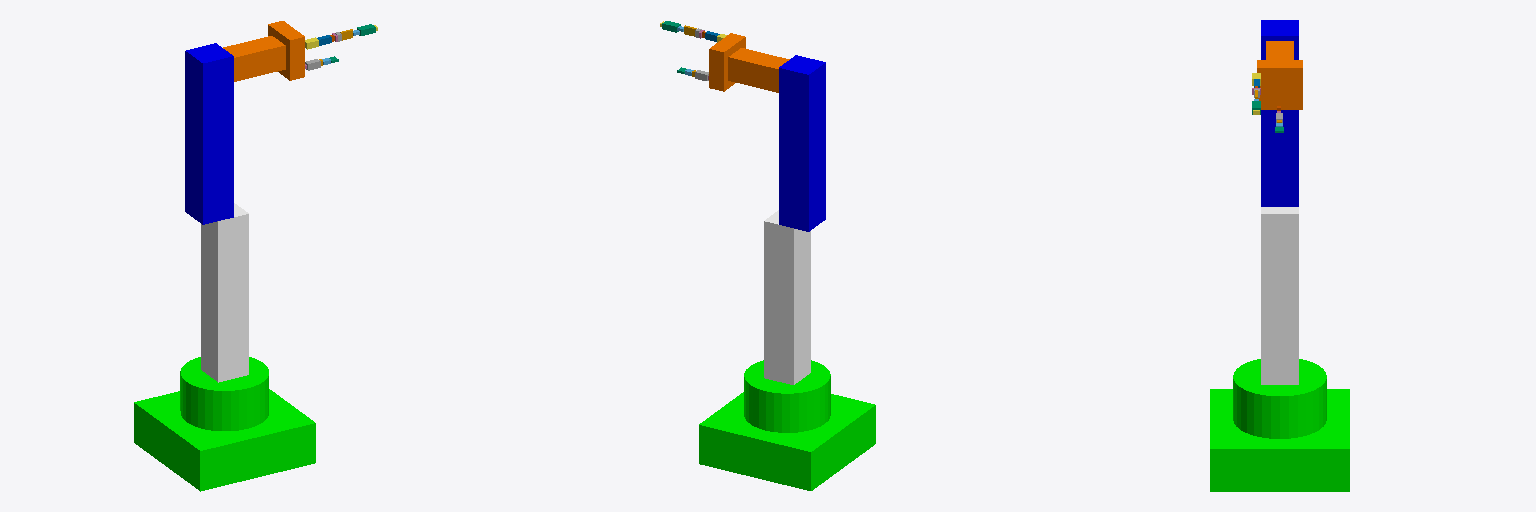
The robot description file, URDF, robot "robot":
<?xml version='1.0' encoding='utf-8'?>
<robot name="robot">
  <link name="base_link">
    <visual>
      <origin xyz="0 0 0.125" rpy="0 0 0" />
      <geometry>
        <box size="0.75 0.75 0.25" />
      </geometry>
      <material name="green" />
    </visual>
    <visual>
      <origin xyz="0 0 0.375" rpy="0 0 0" />
      <geometry>
        <cylinder length="0.25" radius="0.25" />
      </geometry>
      <material name="green">
        <color rgba="0 1 0 1" />
      </material>
    </visual>
    <collision>
      <geometry>
        <box size="0.75 0.75 0.5" />
      </geometry>
    </collision>
    <inertial>
      <mass value="0.5" />
      <inertia ixx="0.034" ixy="0.0" ixz="0.0" iyy="0.034" iyz="0.0" izz="0.034" />
    </inertial>
  </link>
  <link name="support_link">
    <visual>
      <origin xyz="0 0 0.5" rpy="0 0 0" />
      <geometry>
        <box size="0.2 0.2 1" />
      </geometry>
      <material name="white">
        <color rgba="1 1 1 1" />
      </material>
    </visual>
    <collision>
      <geometry>
        <box size="0.2 0.2 1" />
      </geometry>
    </collision>
    <inertial>
      <mass value="0.1" />
      <inertia ixx="0.01" ixy="0.0" ixz="0.0" iyy="0.01" iyz="0.0" izz="0.01" />
    </inertial>
  </link>
  <joint name="support_joint" type="continuous">
    <origin xyz="0 0 0.5" rpy="0 0 0" />
    <parent link="base_link" />
    <child link="support_link" />
    <axis xyz="0 0 1" />
  </joint>
  <link name="arm_link">
    <visual>
      <origin xyz="0 0 0.5" rpy="0 0 0" />
      <geometry>
        <box size="0.2 0.2 1" />
      </geometry>
      <material name="blue">
        <color rgba="0 0 1 1" />
      </material>
    </visual>
    <collision>
      <geometry>
        <box size="0.2 0.2 1" />
      </geometry>
    </collision>
    <inertial>
      <mass value="0.1" />
      <inertia ixx="0.01" ixy="0.0" ixz="0.0" iyy="0.01" iyz="0.0" izz="0.01" />
    </inertial>
  </link>
  <joint name="arm_joint" type="revolute">
    <origin xyz="-0.1 0 1" rpy="0 0 0" />
    <parent link="support_link" />
    <child link="arm_link" />
    <axis xyz="0 1 0" />
    <limit lower="-3.14" upper="3.14" effort="1.0" velocity="1.0" />
  </joint>
  <link name="wrist_link">
    <visual>
      <origin xyz="0 0 0.25" rpy="0 0 0" />
      <geometry>
        <box size="0.15 0.15 0.5" />
      </geometry>
      <material name="orange">
        <color rgba="1 0.5 0 1" />
      </material>
    </visual>
    <collision>
      <geometry>
        <box size="0.15 0.15 0.5" />
      </geometry>
    </collision>
    <inertial>
      <mass value="0.1" />
      <inertia ixx="0.01" ixy="0.0" ixz="0.0" iyy="0.01" iyz="0.0" izz="0.01" />
    </inertial>
  </link>
  <joint name="wrist_joint" type="fixed">
    <origin xyz="0 0 0.9" rpy="0 1.571 0" />
    <parent link="arm_link" />
    <child link="wrist_link" />
  </joint>
  <link name="palm_link">
    <visual>
      <origin xyz="0 0 0.05" rpy="0 0 0" />
      <geometry>
        <box size="0.25 0.25 0.1" />
      </geometry>
      <material name="orange" />
    </visual>
    <collision>
      <geometry>
        <box size="0.25 0.25 0.1" />
      </geometry>
    </collision>
    <inertial>
      <mass value="0.1" />
      <inertia ixx="0.01" ixy="0.0" ixz="0.0" iyy="0.01" iyz="0.0" izz="0.01" />
    </inertial>
  </link>
  <joint name="palm_joint" type="fixed">
    <origin xyz="0 0 0.45" rpy="0 0 0" />
    <parent link="wrist_link" />
    <child link="palm_link" />
  </joint>
  <link name="finger_link_0_0">
    <visual>
      <origin xyz="0 0 0.013" rpy="0 0 0" />
      <geometry>
        <box size="0.048 0.022 0.026" />
      </geometry>
    </visual>
    <collision>
      <geometry>
        <box size="0.048 0.022 0.026" />
      </geometry>
    </collision>
    <inertial>
      <mass value="0.008" />
      <inertia ixx="0.0" iyy="0.0" izz="0.0" ixy="0" ixz="0" iyz="0" />
    </inertial>
  </link>
  <joint name="finger_joint_palm_link_to_finger_link_0_0" type="revolute">
    <origin xyz="0.125 -0.004 0.1" rpy="0 0 0" />
    <parent link="palm_link" />
    <child link="finger_link_0_0" />
    <axis xyz="0.0 1.0 0.0" />
    <limit lower="-3.142" upper="3.142" effort="10" velocity="10" />
  </joint>
  <link name="finger_link_0_1">
    <visual>
      <origin xyz="0 0 0.0255" rpy="0 0 0" />
      <geometry>
        <box size="0.021 0.02 0.051" />
      </geometry>
    </visual>
    <collision>
      <geometry>
        <box size="0.021 0.02 0.051" />
      </geometry>
    </collision>
    <inertial>
      <mass value="0.006" />
      <inertia ixx="0.0" iyy="0.0" izz="0.0" ixy="0" ixz="0" iyz="0" />
    </inertial>
  </link>
  <joint name="finger_joint_finger_link_0_0_to_finger_link_0_1" type="revolute">
    <origin xyz="0.0 0.0 0.026" rpy="0 0 0" />
    <parent link="finger_link_0_0" />
    <child link="finger_link_0_1" />
    <axis xyz="0.0 1.0 0.0" />
    <limit lower="-3.142" upper="3.142" effort="10" velocity="10" />
  </joint>
  <link name="finger_link_0_2">
    <visual>
      <origin xyz="0 0 0.0405" rpy="0 0 0" />
      <geometry>
        <box size="0.042 0.037 0.081" />
      </geometry>
    </visual>
    <collision>
      <geometry>
        <box size="0.042 0.037 0.081" />
      </geometry>
    </collision>
    <inertial>
      <mass value="0.038" />
      <inertia ixx="0.0" iyy="0.0" izz="0.0" ixy="0" ixz="0" iyz="0" />
    </inertial>
  </link>
  <joint name="finger_joint_finger_link_0_1_to_finger_link_0_2" type="revolute">
    <origin xyz="0.0 0.0 0.051" rpy="0 0 0" />
    <parent link="finger_link_0_1" />
    <child link="finger_link_0_2" />
    <axis xyz="0.0 1.0 0.0" />
    <limit lower="-3.142" upper="3.142" effort="10" velocity="10" />
  </joint>
  <link name="finger_link_0_3">
    <visual>
      <origin xyz="0 0 0.0105" rpy="0 0 0" />
      <geometry>
        <box size="0.033 0.024 0.021" />
      </geometry>
    </visual>
    <collision>
      <geometry>
        <box size="0.033 0.024 0.021" />
      </geometry>
    </collision>
    <inertial>
      <mass value="0.005" />
      <inertia ixx="0.0" iyy="0.0" izz="0.0" ixy="0" ixz="0" iyz="0" />
    </inertial>
  </link>
  <joint name="finger_joint_finger_link_0_2_to_finger_link_0_3" type="revolute">
    <origin xyz="0.0 0.0 0.081" rpy="0 0 0" />
    <parent link="finger_link_0_2" />
    <child link="finger_link_0_3" />
    <axis xyz="0.0 1.0 0.0" />
    <limit lower="-3.142" upper="3.142" effort="10" velocity="10" />
  </joint>
  <link name="finger_link_0_4">
    <visual>
      <origin xyz="0 0 0.024" rpy="0 0 0" />
      <geometry>
        <box size="0.023 0.036 0.048" />
      </geometry>
    </visual>
    <collision>
      <geometry>
        <box size="0.023 0.036 0.048" />
      </geometry>
    </collision>
    <inertial>
      <mass value="0.012" />
      <inertia ixx="0.0" iyy="0.0" izz="0.0" ixy="0" ixz="0" iyz="0" />
    </inertial>
  </link>
  <joint name="finger_joint_finger_link_0_3_to_finger_link_0_4" type="revolute">
    <origin xyz="0.0 0.0 0.021" rpy="0 0 0" />
    <parent link="finger_link_0_3" />
    <child link="finger_link_0_4" />
    <axis xyz="0.0 1.0 0.0" />
    <limit lower="-3.142" upper="3.142" effort="10" velocity="10" />
  </joint>
  <link name="finger_link_0_5">
    <visual>
      <origin xyz="0 0 0.0225" rpy="0 0 0" />
      <geometry>
        <box size="0.014 0.046 0.045" />
      </geometry>
    </visual>
    <collision>
      <geometry>
        <box size="0.014 0.046 0.045" />
      </geometry>
    </collision>
    <inertial>
      <mass value="0.009" />
      <inertia ixx="0.0" iyy="0.0" izz="0.0" ixy="0" ixz="0" iyz="0" />
    </inertial>
  </link>
  <joint name="finger_joint_finger_link_0_4_to_finger_link_0_5" type="revolute">
    <origin xyz="0.0 0.0 0.048" rpy="0 0 0" />
    <parent link="finger_link_0_4" />
    <child link="finger_link_0_5" />
    <axis xyz="0.0 1.0 0.0" />
    <limit lower="-3.142" upper="3.142" effort="10" velocity="10" />
  </joint>
  <link name="finger_link_1_0">
    <visual>
      <origin xyz="0 0 0.039" rpy="0 0 0" />
      <geometry>
        <box size="0.04 0.045 0.078" />
      </geometry>
    </visual>
    <collision>
      <geometry>
        <box size="0.04 0.045 0.078" />
      </geometry>
    </collision>
    <inertial>
      <mass value="0.042" />
      <inertia ixx="0.0" iyy="0.0" izz="0.0" ixy="0" ixz="0" iyz="0" />
    </inertial>
  </link>
  <joint name="finger_joint_palm_link_to_finger_link_1_0" type="revolute">
    <origin xyz="-0.074 -0.125 0.1" rpy="0 0 0" />
    <parent link="palm_link" />
    <child link="finger_link_1_0" />
    <axis xyz="1.0 0.0 0.0" />
    <limit lower="-3.142" upper="3.142" effort="10" velocity="10" />
  </joint>
  <link name="finger_link_1_1">
    <visual>
      <origin xyz="0 0 0.0415" rpy="0 0 0" />
      <geometry>
        <box size="0.039 0.032 0.083" />
      </geometry>
    </visual>
    <collision>
      <geometry>
        <box size="0.039 0.032 0.083" />
      </geometry>
    </collision>
    <inertial>
      <mass value="0.031" />
      <inertia ixx="0.0" iyy="0.0" izz="0.0" ixy="0" ixz="0" iyz="0" />
    </inertial>
  </link>
  <joint name="finger_joint_finger_link_1_0_to_finger_link_1_1" type="revolute">
    <origin xyz="0.0 0.0 0.078" rpy="0 0 0" />
    <parent link="finger_link_1_0" />
    <child link="finger_link_1_1" />
    <axis xyz="1.0 0.0 0.0" />
    <limit lower="-3.142" upper="3.142" effort="10" velocity="10" />
  </joint>
  <link name="finger_link_1_2">
    <visual>
      <origin xyz="0 0 0.012" rpy="0 0 0" />
      <geometry>
        <box size="0.034 0.016 0.024" />
      </geometry>
    </visual>
    <collision>
      <geometry>
        <box size="0.034 0.016 0.024" />
      </geometry>
    </collision>
    <inertial>
      <mass value="0.004" />
      <inertia ixx="0.0" iyy="0.0" izz="0.0" ixy="0" ixz="0" iyz="0" />
    </inertial>
  </link>
  <joint name="finger_joint_finger_link_1_1_to_finger_link_1_2" type="revolute">
    <origin xyz="0.0 0.0 0.083" rpy="0 0 0" />
    <parent link="finger_link_1_1" />
    <child link="finger_link_1_2" />
    <axis xyz="0.0 1.0 0.0" />
    <limit lower="-3.142" upper="3.142" effort="10" velocity="10" />
  </joint>
  <link name="finger_link_1_3">
    <visual>
      <origin xyz="0 0 0.0075" rpy="0 0 0" />
      <geometry>
        <box size="0.036 0.049 0.015" />
      </geometry>
    </visual>
    <collision>
      <geometry>
        <box size="0.036 0.049 0.015" />
      </geometry>
    </collision>
    <inertial>
      <mass value="0.008" />
      <inertia ixx="0.0" iyy="0.0" izz="0.0" ixy="0" ixz="0" iyz="0" />
    </inertial>
  </link>
  <joint name="finger_joint_finger_link_1_2_to_finger_link_1_3" type="revolute">
    <origin xyz="0.0 0.0 0.024" rpy="0 0 0" />
    <parent link="finger_link_1_2" />
    <child link="finger_link_1_3" />
    <axis xyz="1.0 0.0 0.0" />
    <limit lower="-3.142" upper="3.142" effort="10" velocity="10" />
  </joint>
  <link name="finger_link_1_4">
    <visual>
      <origin xyz="0 0 0.014" rpy="0 0 0" />
      <geometry>
        <box size="0.044 0.032 0.028" />
      </geometry>
    </visual>
    <collision>
      <geometry>
        <box size="0.044 0.032 0.028" />
      </geometry>
    </collision>
    <inertial>
      <mass value="0.012" />
      <inertia ixx="0.0" iyy="0.0" izz="0.0" ixy="0" ixz="0" iyz="0" />
    </inertial>
  </link>
  <joint name="finger_joint_finger_link_1_3_to_finger_link_1_4" type="revolute">
    <origin xyz="0.0 0.0 0.015" rpy="0 0 0" />
    <parent link="finger_link_1_3" />
    <child link="finger_link_1_4" />
    <axis xyz="0.0 1.0 0.0" />
    <limit lower="-3.142" upper="3.142" effort="10" velocity="10" />
  </joint>
  <link name="finger_link_1_5">
    <visual>
      <origin xyz="0 0 0.039" rpy="0 0 0" />
      <geometry>
        <box size="0.049 0.016 0.078" />
      </geometry>
    </visual>
    <collision>
      <geometry>
        <box size="0.049 0.016 0.078" />
      </geometry>
    </collision>
    <inertial>
      <mass value="0.018" />
      <inertia ixx="0.0" iyy="0.0" izz="0.0" ixy="0" ixz="0" iyz="0" />
    </inertial>
  </link>
  <joint name="finger_joint_finger_link_1_4_to_finger_link_1_5" type="revolute">
    <origin xyz="0.0 0.0 0.028" rpy="0 0 0" />
    <parent link="finger_link_1_4" />
    <child link="finger_link_1_5" />
    <axis xyz="1.0 0.0 0.0" />
    <limit lower="-3.142" upper="3.142" effort="10" velocity="10" />
  </joint>
  <link name="finger_link_1_6">
    <visual>
      <origin xyz="0 0 0.02" rpy="0 0 0" />
      <geometry>
        <box size="0.018 0.03 0.04" />
      </geometry>
    </visual>
    <collision>
      <geometry>
        <box size="0.018 0.03 0.04" />
      </geometry>
    </collision>
    <inertial>
      <mass value="0.006" />
      <inertia ixx="0.0" iyy="0.0" izz="0.0" ixy="0" ixz="0" iyz="0" />
    </inertial>
  </link>
  <joint name="finger_joint_finger_link_1_5_to_finger_link_1_6" type="revolute">
    <origin xyz="0.0 0.0 0.078" rpy="0 0 0" />
    <parent link="finger_link_1_5" />
    <child link="finger_link_1_6" />
    <axis xyz="0.0 1.0 0.0" />
    <limit lower="-3.142" upper="3.142" effort="10" velocity="10" />
  </joint>
  <link name="finger_link_1_7">
    <visual>
      <origin xyz="0 0 0.0475" rpy="0 0 0" />
      <geometry>
        <box size="0.037 0.048 0.095" />
      </geometry>
    </visual>
    <collision>
      <geometry>
        <box size="0.037 0.048 0.095" />
      </geometry>
    </collision>
    <inertial>
      <mass value="0.051" />
      <inertia ixx="0.0" iyy="0.0" izz="0.0" ixy="0" ixz="0" iyz="0" />
    </inertial>
  </link>
  <joint name="finger_joint_finger_link_1_6_to_finger_link_1_7" type="revolute">
    <origin xyz="0.0 0.0 0.04" rpy="0 0 0" />
    <parent link="finger_link_1_6" />
    <child link="finger_link_1_7" />
    <axis xyz="1.0 0.0 0.0" />
    <limit lower="-3.142" upper="3.142" effort="10" velocity="10" />
  </joint>
  <link name="finger_link_1_8">
    <visual>
      <origin xyz="0 0 0.01" rpy="0 0 0" />
      <geometry>
        <box size="0.019 0.04 0.02" />
      </geometry>
    </visual>
    <collision>
      <geometry>
        <box size="0.019 0.04 0.02" />
      </geometry>
    </collision>
    <inertial>
      <mass value="0.005" />
      <inertia ixx="0.0" iyy="0.0" izz="0.0" ixy="0" ixz="0" iyz="0" />
    </inertial>
  </link>
  <joint name="finger_joint_finger_link_1_7_to_finger_link_1_8" type="revolute">
    <origin xyz="0.0 0.0 0.095" rpy="0 0 0" />
    <parent link="finger_link_1_7" />
    <child link="finger_link_1_8" />
    <axis xyz="1.0 0.0 0.0" />
    <limit lower="-3.142" upper="3.142" effort="10" velocity="10" />
  </joint>
</robot>

--- Render facts (derived) ---
The picture shows the robot from 3 angles, left to right: view 1: azimuth 30°, elevation 25°; view 2: azimuth 150°, elevation 25°; view 3: azimuth 270°, elevation 25°; orthographic projection.
Robot: robot — 20 links, 19 joints (16 revolute, 1 continuous, 2 fixed); root link base_link; default pose: all joints at 0.
Visible links, largest first — view 1: base_link, arm_link, support_link, wrist_link, palm_link; view 2: base_link, arm_link, support_link, wrist_link, palm_link; view 3: base_link, support_link, arm_link, palm_link, wrist_link.
Link boxes in pixels (box(x1,y1,x2,y2)): base_link: box(134, 357, 315, 491); arm_link: box(185, 43, 233, 224); support_link: box(201, 203, 248, 382); wrist_link: box(223, 36, 285, 81); palm_link: box(268, 21, 304, 80); base_link: box(699, 360, 875, 490); arm_link: box(779, 55, 825, 231); support_link: box(764, 210, 810, 384); wrist_link: box(728, 48, 789, 92); palm_link: box(709, 33, 745, 91); base_link: box(1210, 359, 1349, 491); support_link: box(1261, 207, 1298, 384); arm_link: box(1261, 20, 1298, 206); palm_link: box(1257, 60, 1302, 109); wrist_link: box(1266, 41, 1293, 59).
Size in the robot's own frame: 1.29 by 0.75 by 2.52 metres.
Geometry: primitives only (box / cylinder / sphere), no mesh files.